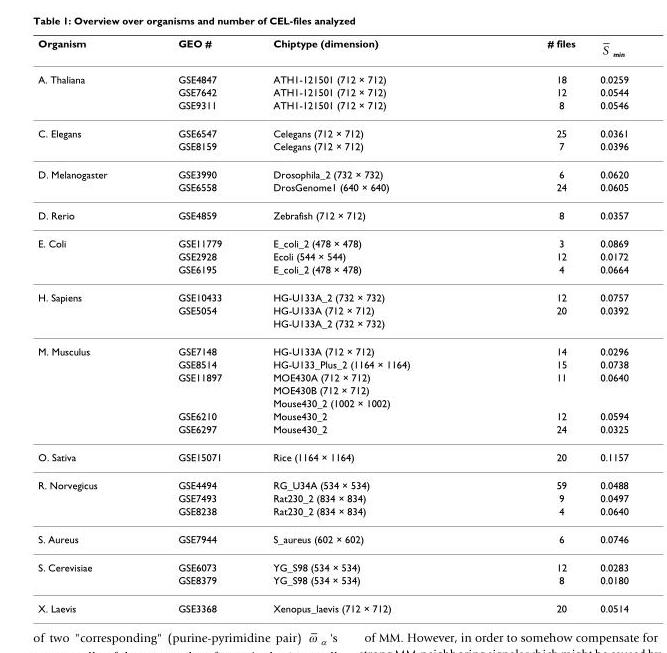table: (37, 36, 627, 613)
table column: (246, 36, 478, 613), (478, 36, 587, 613), (141, 36, 246, 613), (37, 36, 141, 613), (587, 36, 627, 613)
table column header: (37, 36, 627, 65)
table row: (37, 36, 627, 65), (37, 200, 627, 228), (37, 442, 627, 470), (37, 524, 627, 552), (37, 118, 627, 139), (37, 159, 627, 180), (37, 228, 627, 249), (37, 282, 627, 303), (37, 336, 627, 357), (37, 470, 627, 491), (37, 552, 627, 573), (37, 65, 627, 85), (37, 98, 627, 118), (37, 139, 627, 159), (37, 180, 627, 200), (37, 262, 627, 282), (37, 316, 627, 336), (37, 422, 627, 442), (37, 504, 627, 524), (37, 573, 627, 593), (37, 593, 627, 613), (37, 85, 627, 98), (37, 249, 627, 262), (37, 303, 627, 316), (37, 357, 627, 370), (37, 370, 627, 383), (37, 383, 627, 396), (37, 396, 627, 409), (37, 409, 627, 422), (37, 491, 627, 504)
table spanning cell: (37, 336, 141, 442), (37, 228, 141, 282), (37, 282, 141, 336), (37, 470, 141, 524), (37, 65, 141, 118), (37, 118, 141, 159), (37, 159, 141, 200), (37, 552, 141, 593)
